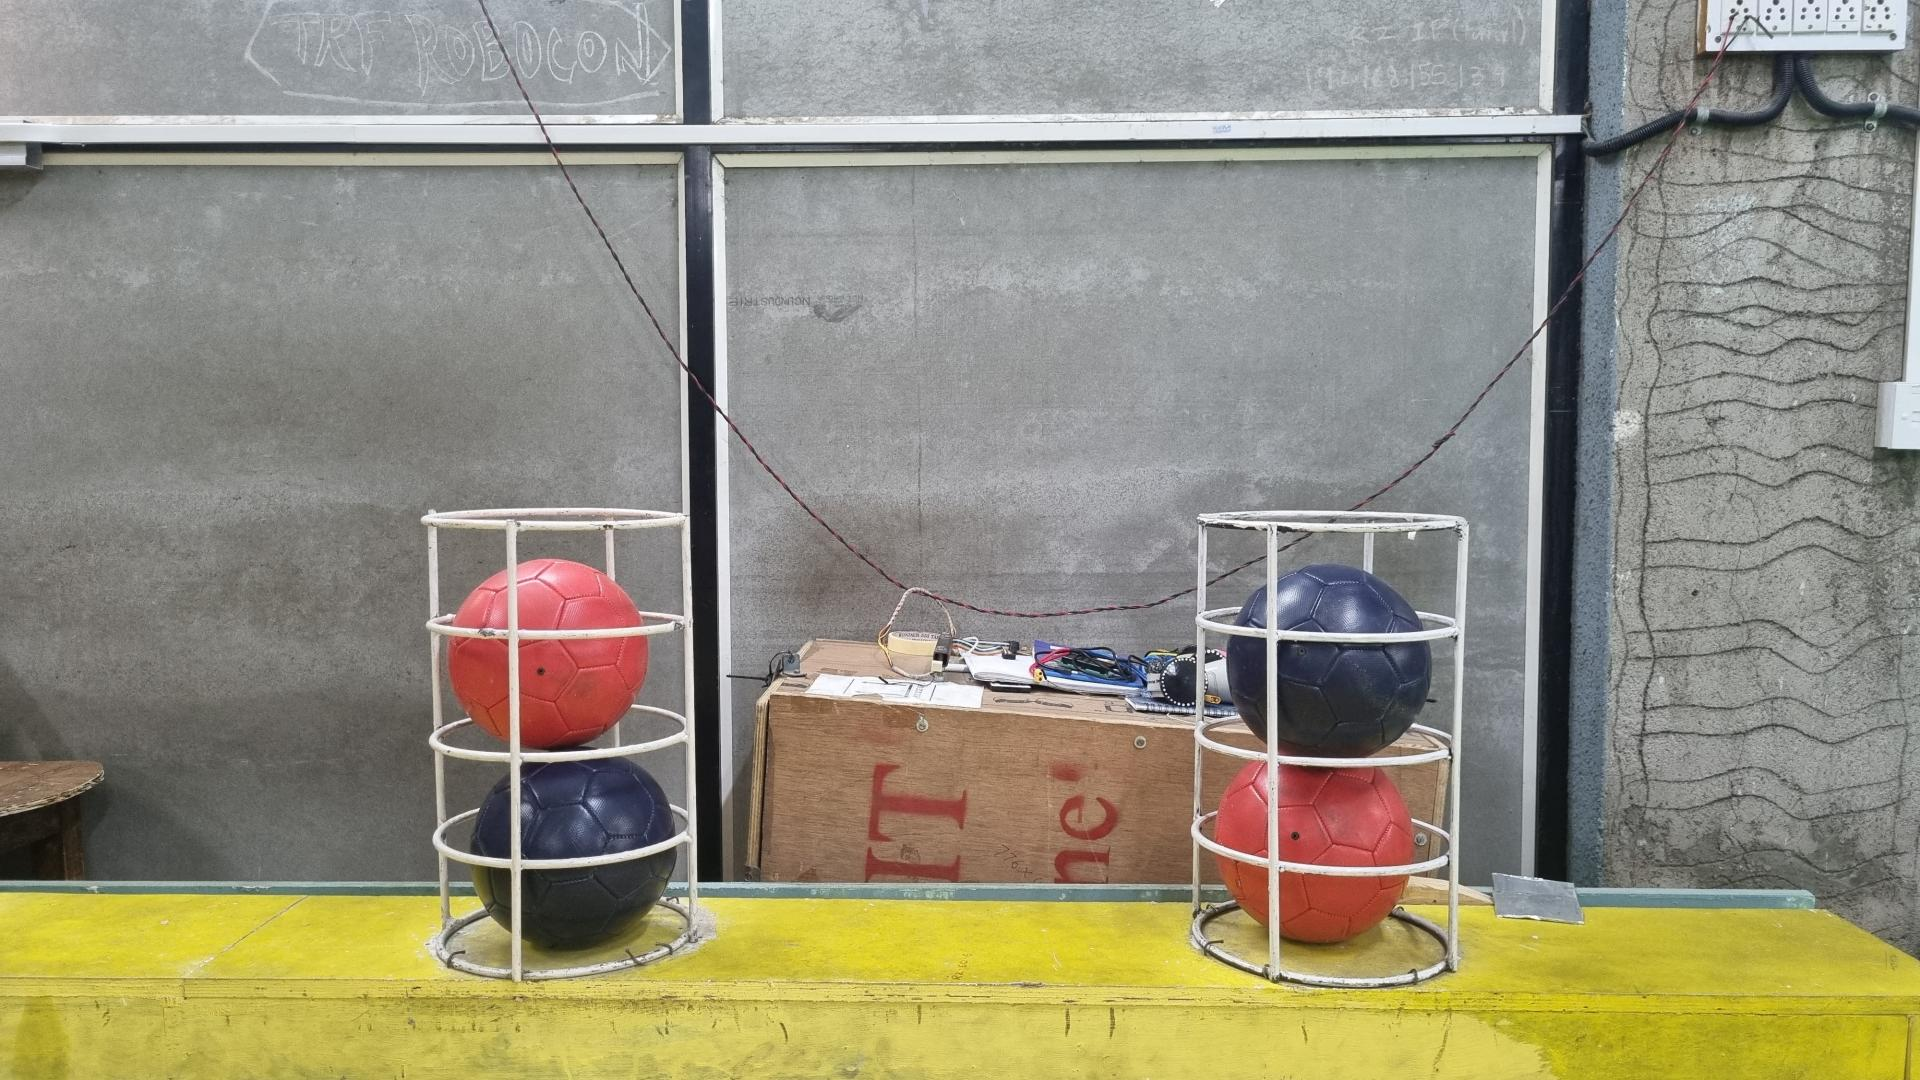dhoka: (1226, 566, 1432, 761), (468, 761, 675, 952)
laale: (446, 558, 649, 753), (1215, 761, 1418, 944)
